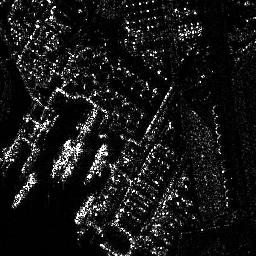ship: (10, 171, 38, 209), (84, 144, 105, 184), (74, 193, 95, 226)
